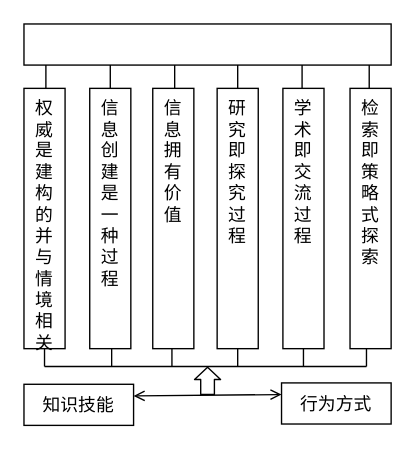
The diagram is 415 pixels wide and 449 high, and some of its shapes have lost their labels. The shapes that lost their labels are listed below. From the top down, each one's centre as x and y in pixels, then its label:
the point at 207,44: 高等教育信息生态系统
the point at 207,409: 信息素养能力要求
